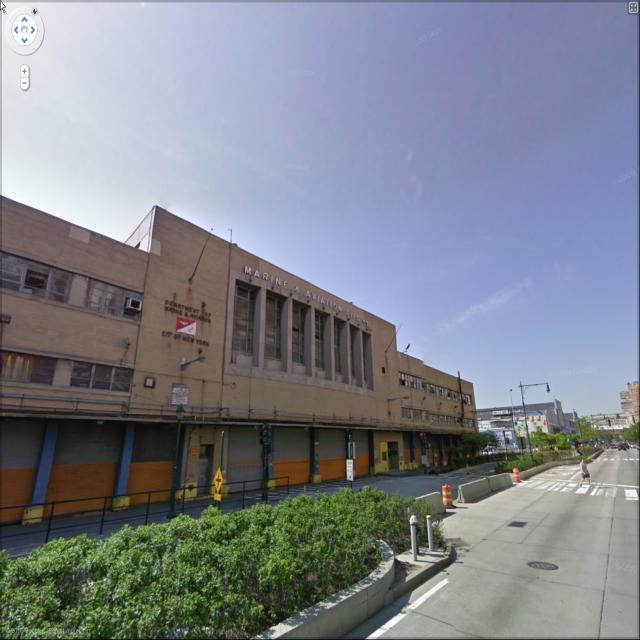b_1: (1, 183, 477, 508)
